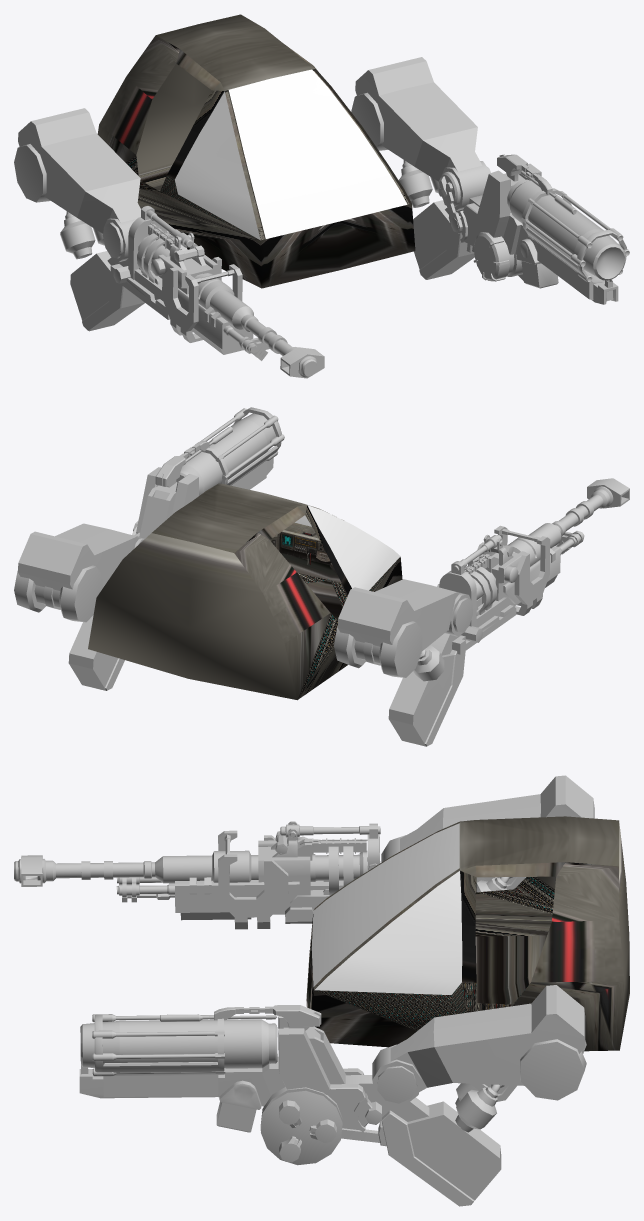
Rendered from cockpit.FBX.
The picture shows the model from 3 angles, top to bottom: view 1: azimuth 30°, elevation 25°; view 2: azimuth 150°, elevation 25°; view 3: azimuth 270°, elevation 25°; orthographic projection. The views are drawn at different scales.
Parts seen in each view (by area): view 1: gun, case, window; view 2: gun, case, window, cokpit; view 3: gun, case, window.
Boxes of the visible parts, x1,y1,x2,y2 form: gun: (14,57,629,378); case: (97,14,415,288); window: (175,69,407,240); gun: (14,407,629,746); case: (88,483,402,700); window: (295,505,400,590); cokpit: (270,522,337,575); gun: (14,775,594,1206); case: (306,816,629,1051); window: (311,823,462,994).
Bounding box in the file's own units: 1252 × 728 × 1496.
